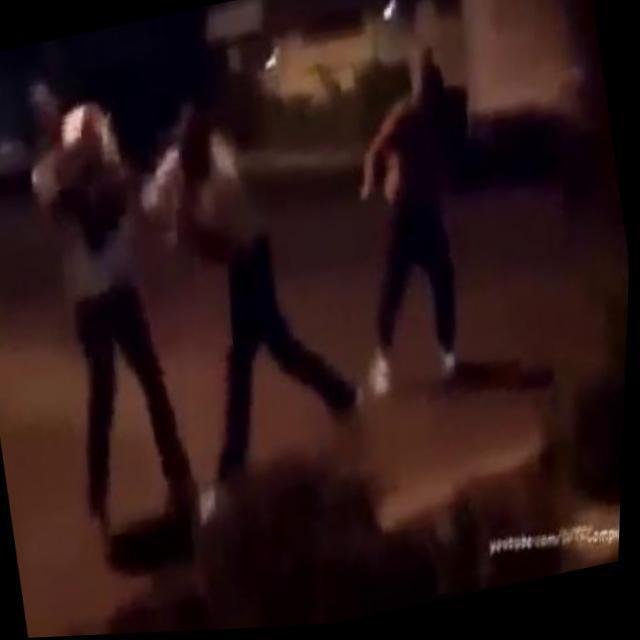fight: (0, 55, 358, 541)
